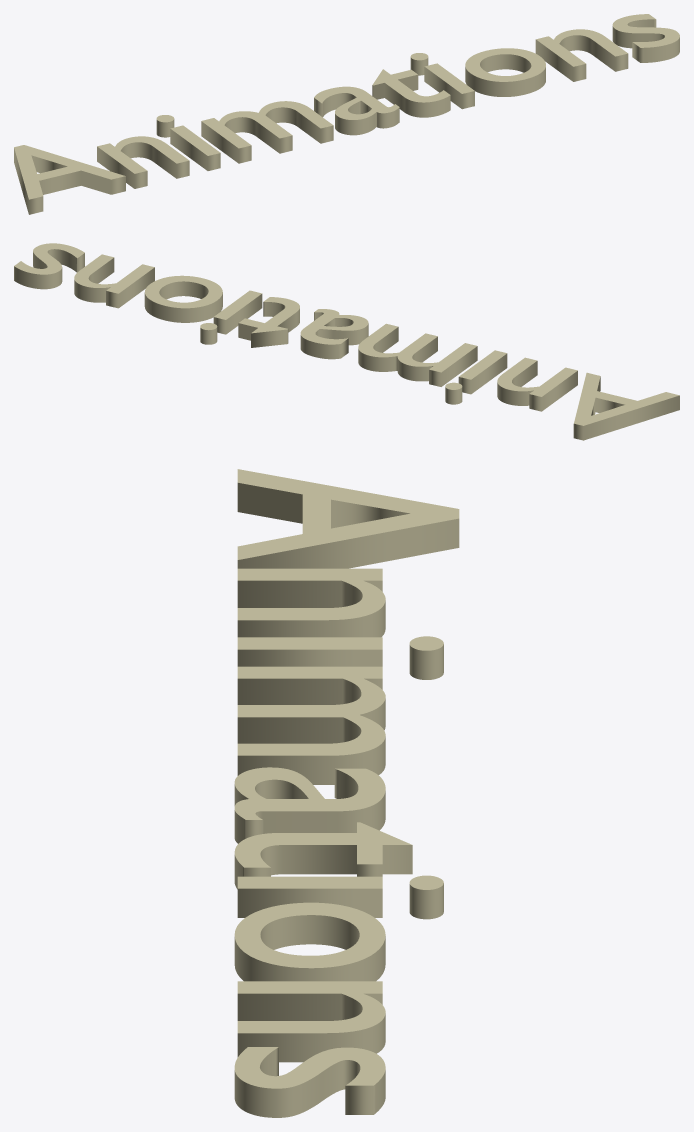
The model's file is SM_Animations.FBX.
The picture shows the model from 3 angles, top to bottom: view 1: azimuth 30°, elevation 25°; view 2: azimuth 150°, elevation 25°; view 3: azimuth 270°, elevation 25°; orthographic projection. The views are drawn at different scales.
Parts seen in each view (by area): view 1: SM_Animations; view 2: SM_Animations; view 3: SM_Animations.
Boxes of the visible parts, x1,y1,x2,y2 form: SM_Animations: (14, 14, 679, 214); SM_Animations: (14, 243, 679, 440); SM_Animations: (234, 469, 459, 1117).
Size of the model in its own units: 453 by 69.5 by 10.
